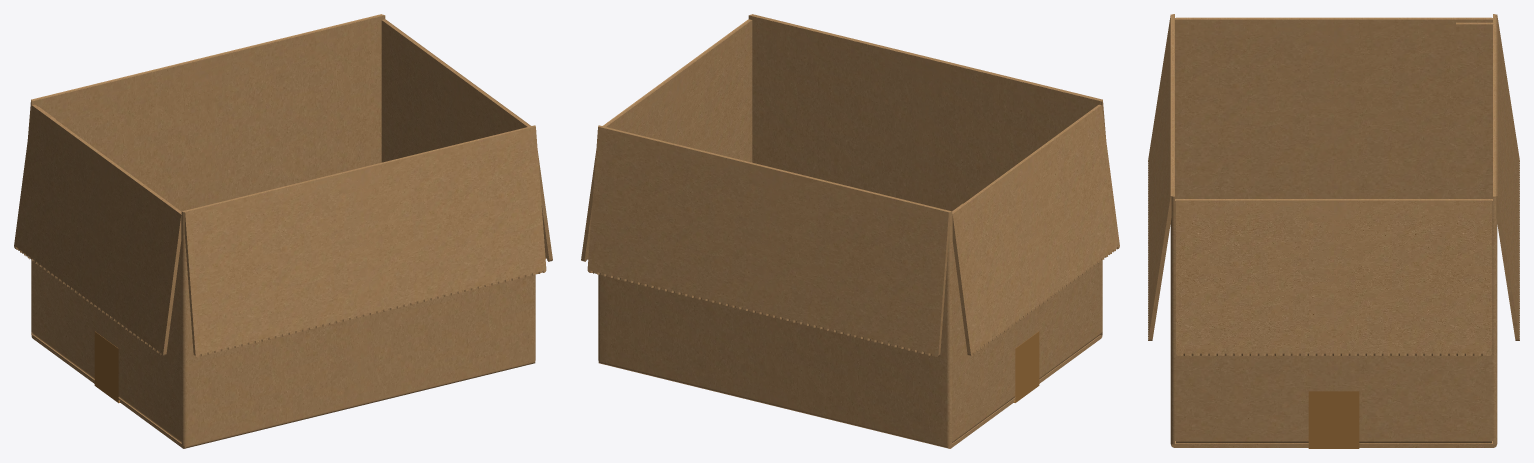
The picture shows the model from 3 angles, left to right: view 1: azimuth 30°, elevation 25°; view 2: azimuth 150°, elevation 25°; view 3: azimuth 270°, elevation 25°; orthographic projection. The views are drawn at different scales.
Parts seen in each view (by area): view 1: Board_mesh, Outer_liner_mesh.003, Outer_liner_mesh, Outer_liner_mesh.001, Tape_mesh, Board_mesh.003, Outer_liner_mesh.004; view 2: Board_mesh, Outer_liner_mesh.004, Outer_liner_mesh, Outer_liner_mesh.001, Tape_mesh, Board_mesh.004, Outer_liner_mesh.003; view 3: Board_mesh, Outer_liner_mesh.002, Outer_liner_mesh, Outer_liner_mesh.003, Outer_liner_mesh.004, Tape_mesh, Board_mesh.004, Outer_liner_mesh.001, Board_mesh.003.
Part boxes in pixels (left/top/right/bottom): Board_mesh: left=32, top=15, right=533, bottom=446; Outer_liner_mesh.003: left=184, top=126, right=546, bottom=357; Outer_liner_mesh: left=31, top=14, right=535, bottom=448; Outer_liner_mesh.001: left=14, top=105, right=181, bottom=355; Tape_mesh: left=94, top=331, right=119, bottom=403; Board_mesh.003: left=183, top=125, right=533, bottom=355; Outer_liner_mesh.004: left=27, top=14, right=381, bottom=139; Board_mesh: left=600, top=15, right=1101, bottom=446; Outer_liner_mesh.004: left=587, top=126, right=949, bottom=357; Outer_liner_mesh: left=598, top=14, right=1102, bottom=448; Outer_liner_mesh.001: left=952, top=105, right=1119, bottom=355; Tape_mesh: left=1014, top=331, right=1039, bottom=402; Board_mesh.004: left=600, top=125, right=950, bottom=355; Outer_liner_mesh.003: left=752, top=14, right=1106, bottom=139; Board_mesh: left=1173, top=15, right=1494, bottom=445; Outer_liner_mesh.002: left=1176, top=200, right=1491, bottom=355; Outer_liner_mesh: left=1170, top=14, right=1497, bottom=447; Outer_liner_mesh.003: left=1148, top=14, right=1171, bottom=340; Outer_liner_mesh.004: left=1496, top=14, right=1519, bottom=340; Tape_mesh: left=1308, top=391, right=1359, bottom=448; Board_mesh.004: left=1493, top=14, right=1517, bottom=340; Outer_liner_mesh.001: left=1176, top=17, right=1491, bottom=18; Board_mesh.003: left=1150, top=14, right=1174, bottom=340.
Size of the model in its own units: 0.4507 by 0.2626 by 0.3507.
4 materials, 3 textured.
